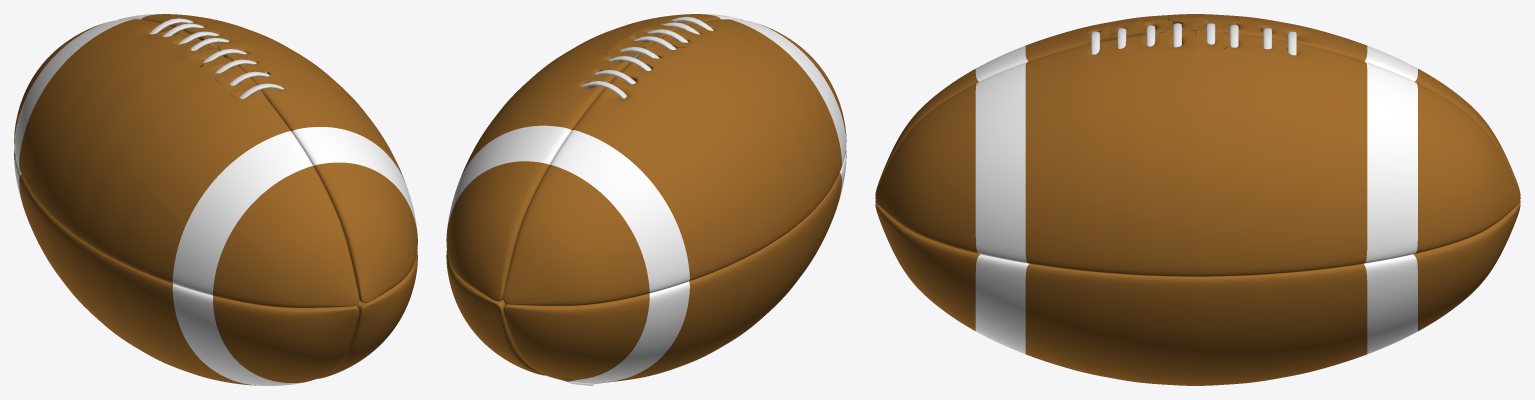
Rendered from rugby_ball.fbx.
The picture shows the model from 3 angles, left to right: view 1: azimuth 30°, elevation 25°; view 2: azimuth 150°, elevation 25°; view 3: azimuth 270°, elevation 25°; orthographic projection. The views are drawn at different scales.
Visible parts, largest first — view 1: Sphere; view 2: Sphere; view 3: Sphere.
Boxes of the visible parts, x1,y1,x2,y2 form: Sphere: [14, 14, 417, 385]; Sphere: [446, 14, 846, 385]; Sphere: [875, 14, 1520, 385].
Size of the model in its own units: 205 by 208 by 357.
